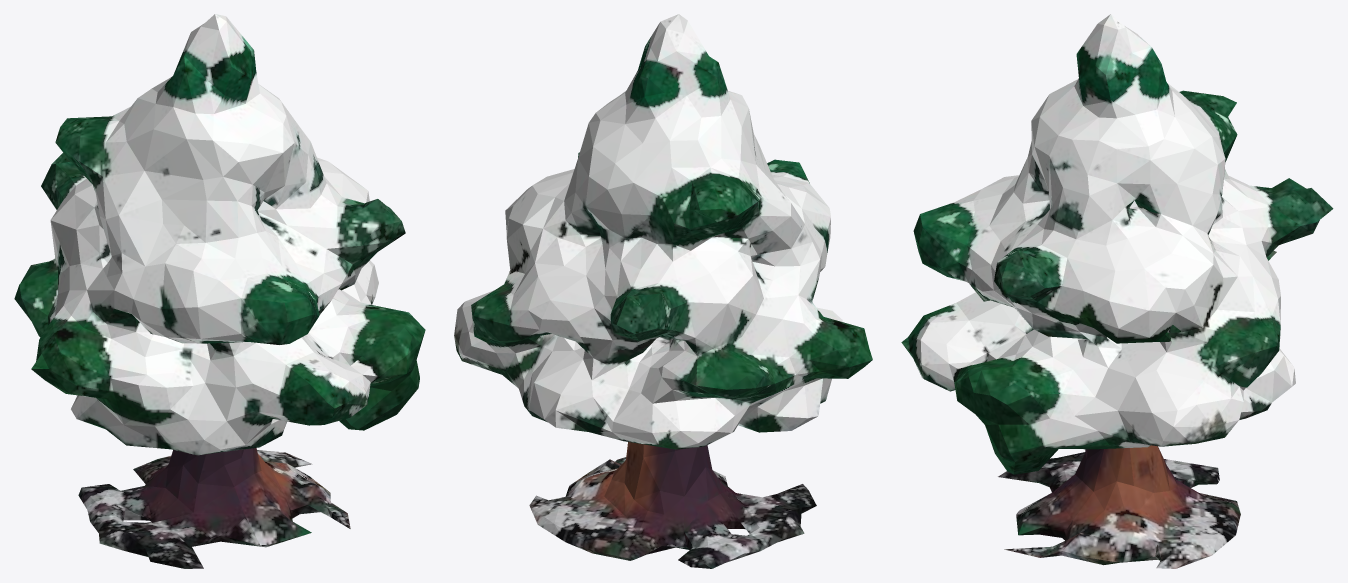
File: dag_cam.glb
3 views of the same model, side by side, from view 1: azimuth 30°, elevation 25°; view 2: azimuth 150°, elevation 25°; view 3: azimuth 270°, elevation 25° (orthographic).
Parts seen in each view (by area): view 1: geometry_0; view 2: geometry_0; view 3: geometry_0.
Boxes of the visible parts, x1,y1,x2,y2 form: geometry_0: (14, 14, 425, 568); geometry_0: (454, 14, 872, 568); geometry_0: (901, 14, 1333, 568).
Size of the model in its own units: 0.8014 by 1.02 by 0.7898.
1 material, 1 textured.
